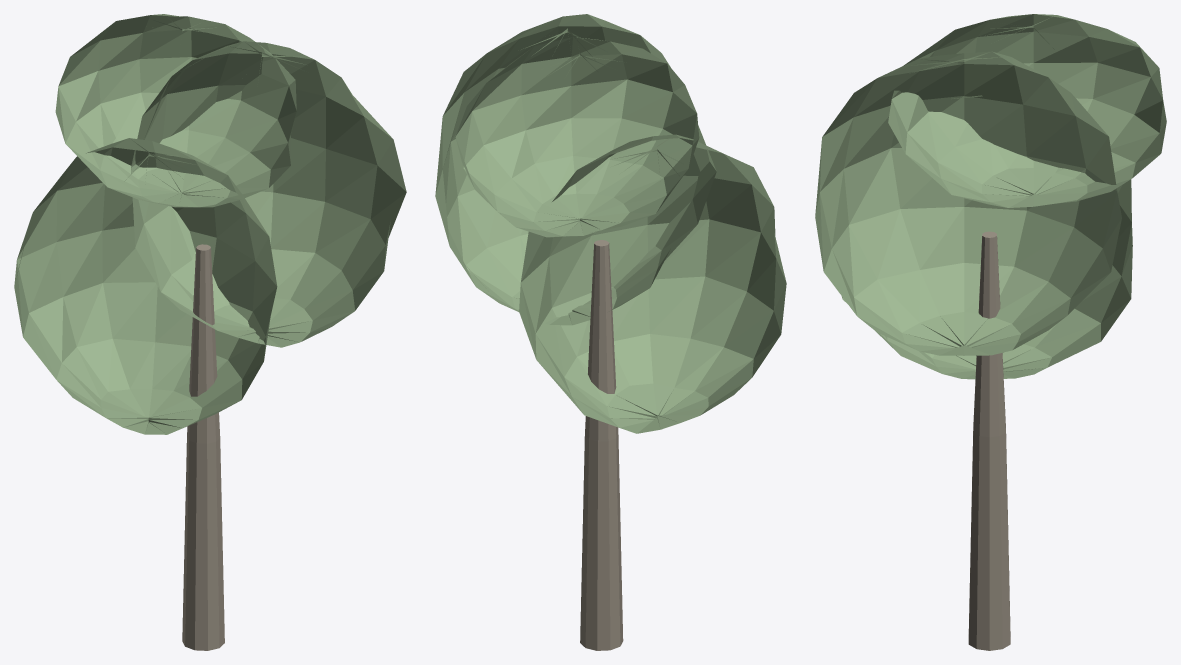
File: tree-a.glb
The picture shows the model from 3 angles, left to right: view 1: azimuth 30°, elevation 25°; view 2: azimuth 150°, elevation 25°; view 3: azimuth 270°, elevation 25°; orthographic projection. The views are drawn at different scales.
Visible parts, largest first — view 1: VEG_FOLIAGE, VEG_TRUNK; view 2: VEG_FOLIAGE, VEG_TRUNK; view 3: VEG_FOLIAGE, VEG_TRUNK.
Part boxes in pixels (<box>): VEG_FOLIAGE: <box>14,14,406,434</box>; VEG_TRUNK: <box>182,244,224,650</box>; VEG_FOLIAGE: <box>435,14,786,433</box>; VEG_TRUNK: <box>580,240,623,650</box>; VEG_FOLIAGE: <box>815,14,1166,379</box>; VEG_TRUNK: <box>968,231,1010,650</box>.
Size of the model in its own units: 2.31 by 4 by 2.07.
